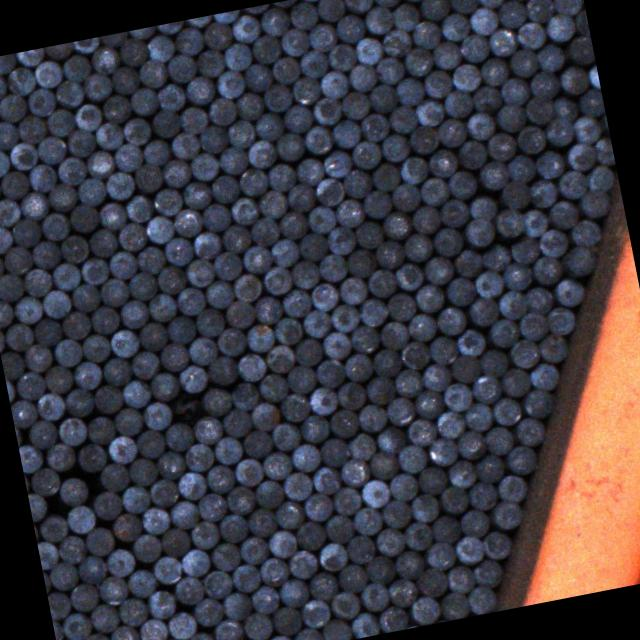tool: (502, 442, 538, 478), (562, 243, 598, 278), (520, 386, 556, 420), (536, 329, 570, 364), (512, 414, 546, 448), (498, 74, 532, 108), (448, 351, 482, 385), (465, 479, 499, 513), (385, 576, 419, 610), (54, 154, 88, 188), (338, 88, 372, 122), (522, 92, 556, 126), (90, 382, 124, 416), (91, 488, 124, 522), (471, 82, 504, 116), (530, 253, 564, 286), (498, 365, 532, 398), (469, 372, 502, 406), (412, 388, 445, 422), (472, 452, 506, 485), (413, 566, 447, 599), (34, 133, 68, 166), (170, 205, 203, 239), (296, 230, 330, 263), (380, 208, 413, 242), (328, 301, 362, 334), (105, 432, 138, 466), (423, 540, 458, 572), (436, 590, 471, 622), (479, 528, 512, 561), (409, 18, 442, 51), (449, 61, 482, 94), (486, 130, 519, 163), (487, 316, 520, 349), (217, 144, 250, 177), (245, 138, 278, 171), (1, 243, 34, 276), (219, 222, 252, 255), (417, 175, 450, 208), (409, 203, 442, 236), (88, 303, 121, 336), (157, 340, 190, 373), (200, 385, 233, 418), (162, 420, 195, 453), (578, 186, 612, 218), (506, 47, 540, 79), (444, 274, 476, 308), (434, 304, 468, 336), (426, 334, 458, 368), (454, 429, 488, 461), (372, 526, 406, 558), (329, 588, 361, 622), (80, 70, 114, 102), (306, 20, 338, 54), (334, 12, 366, 46), (252, 110, 284, 144), (46, 180, 78, 214), (160, 156, 192, 190), (434, 117, 468, 149), (454, 139, 488, 171), (564, 140, 596, 174), (344, 247, 378, 279), (14, 368, 46, 402), (100, 354, 132, 388), (385, 290, 417, 324), (62, 386, 96, 418), (284, 363, 318, 395), (280, 470, 314, 502), (317, 436, 351, 468), (272, 498, 306, 530), (508, 336, 540, 370), (554, 275, 586, 308), (544, 304, 576, 337), (527, 361, 560, 393), (544, 11, 576, 44), (438, 11, 471, 43), (486, 25, 518, 58), (514, 18, 546, 51), (528, 70, 561, 102), (498, 178, 530, 211), (436, 197, 469, 229), (432, 225, 464, 258), (419, 360, 452, 392), (441, 381, 474, 413), (415, 464, 448, 496), (368, 449, 400, 482), (387, 470, 420, 502), (381, 498, 414, 530), (316, 541, 349, 573), (408, 594, 441, 626), (299, 597, 331, 630), (172, 26, 205, 58), (108, 64, 140, 97), (136, 57, 168, 90), (165, 52, 198, 84), (250, 33, 282, 66), (183, 74, 215, 107), (214, 68, 247, 100), (197, 123, 230, 155), (281, 102, 314, 134), (310, 95, 343, 127), (394, 75, 426, 108), (67, 202, 99, 235), (320, 148, 353, 180), (378, 132, 411, 164), (30, 238, 62, 271), (200, 201, 232, 234), (341, 167, 373, 200), (49, 260, 82, 292), (135, 244, 167, 277), (162, 235, 194, 268), (248, 215, 280, 248), (277, 208, 309, 241), (305, 203, 337, 236), (332, 197, 364, 230), (211, 249, 243, 282), (118, 297, 150, 330), (59, 309, 92, 341), (244, 322, 276, 355), (206, 354, 239, 386), (319, 329, 352, 361), (348, 324, 381, 356), (378, 319, 410, 352), (314, 357, 346, 390), (370, 346, 402, 379), (248, 400, 280, 433), (278, 391, 311, 423), (335, 379, 367, 412), (182, 440, 215, 472), (270, 419, 302, 452), (298, 412, 330, 445), (328, 406, 360, 439), (28, 465, 61, 497), (126, 456, 159, 488), (54, 534, 87, 566), (195, 490, 228, 522), (302, 491, 334, 524), (323, 512, 355, 545), (257, 556, 290, 588), (517, 309, 549, 342), (402, 230, 433, 264), (496, 472, 528, 504), (466, 584, 498, 616), (429, 38, 461, 70), (494, 101, 526, 133), (515, 124, 547, 156), (556, 168, 588, 200), (468, 5, 500, 37), (458, 32, 490, 64), (478, 56, 510, 88), (558, 64, 590, 96), (464, 110, 496, 142), (504, 152, 536, 184), (476, 160, 508, 192), (546, 198, 578, 230), (446, 168, 478, 200), (536, 228, 568, 260), (462, 216, 494, 248), (452, 247, 484, 279), (480, 242, 512, 274), (472, 268, 504, 300), (500, 260, 532, 292), (467, 296, 499, 328), (496, 289, 528, 321), (399, 340, 431, 372), (391, 367, 423, 399), (490, 396, 522, 428), (426, 436, 458, 468), (483, 424, 515, 456), (396, 443, 428, 475), (444, 458, 476, 490), (344, 430, 376, 462), (338, 456, 370, 488), (359, 477, 391, 509), (408, 492, 440, 524), (351, 504, 383, 536), (344, 533, 376, 565), (402, 520, 434, 552), (458, 506, 490, 538), (392, 549, 424, 581), (452, 534, 484, 566), (270, 604, 302, 636), (201, 20, 233, 52), (229, 12, 261, 44), (258, 5, 290, 37), (53, 78, 85, 110), (278, 26, 310, 58), (16, 114, 48, 146), (100, 93, 132, 125), (297, 47, 329, 79), (380, 27, 412, 59), (92, 120, 124, 152), (177, 104, 209, 136), (206, 96, 238, 128), (261, 82, 293, 114), (318, 68, 350, 100), (346, 62, 378, 94), (402, 46, 434, 78), (112, 142, 144, 174), (169, 130, 201, 162), (18, 190, 50, 222), (75, 176, 107, 208), (103, 170, 135, 202), (188, 151, 220, 183), (330, 118, 362, 150), (387, 104, 419, 136), (10, 216, 42, 248), (151, 186, 183, 218), (208, 173, 240, 205), (236, 166, 268, 198), (350, 138, 382, 170), (57, 233, 89, 265), (116, 220, 148, 252), (314, 176, 346, 208), (426, 147, 458, 179), (570, 114, 602, 146), (106, 249, 138, 281), (190, 230, 222, 262), (360, 188, 392, 220), (11, 294, 43, 326), (40, 288, 72, 320), (69, 281, 101, 313), (98, 276, 130, 308), (126, 270, 158, 302), (156, 264, 188, 296), (183, 256, 215, 288), (240, 243, 272, 275), (268, 236, 300, 268), (373, 238, 405, 270), (261, 264, 293, 296), (230, 272, 262, 304), (146, 291, 178, 323), (52, 336, 84, 368), (80, 332, 112, 364), (71, 359, 103, 391), (108, 328, 140, 360), (136, 320, 168, 352), (194, 306, 226, 338), (224, 298, 256, 330), (186, 334, 218, 366), (215, 325, 247, 357), (280, 288, 312, 320), (308, 281, 340, 313), (366, 267, 398, 299), (357, 296, 389, 328), (301, 308, 333, 340), (120, 378, 152, 410), (148, 370, 180, 402), (228, 380, 260, 412), (264, 342, 296, 374), (141, 400, 173, 432), (112, 406, 144, 438), (85, 414, 117, 446), (56, 416, 88, 448), (134, 428, 166, 460), (221, 407, 253, 439), (307, 384, 339, 416), (364, 375, 396, 407), (212, 434, 244, 466), (241, 428, 273, 460), (26, 418, 58, 450), (44, 441, 76, 473), (83, 525, 115, 557), (111, 512, 143, 544), (204, 463, 236, 495), (253, 478, 285, 510), (310, 464, 342, 496), (330, 484, 362, 516), (246, 506, 278, 538), (179, 546, 211, 578), (238, 534, 270, 566), (266, 528, 298, 560), (104, 546, 136, 578), (286, 548, 318, 580), (97, 575, 129, 607), (88, 602, 120, 634), (202, 568, 234, 600), (192, 595, 224, 627), (248, 584, 280, 616), (220, 590, 252, 622), (5, 65, 36, 98), (144, 33, 177, 64), (406, 124, 439, 155), (257, 188, 288, 221), (203, 278, 234, 311), (175, 285, 206, 318), (235, 352, 268, 383), (165, 609, 198, 640), (57, 477, 89, 508), (65, 503, 96, 535), (526, 177, 558, 208), (422, 254, 453, 286), (414, 282, 445, 314), (523, 285, 554, 317), (462, 401, 494, 432), (406, 416, 437, 448), (434, 409, 466, 440), (356, 403, 388, 434), (438, 484, 469, 516), (337, 562, 368, 594), (364, 554, 395, 586), (89, 44, 120, 76), (118, 36, 149, 68), (363, 4, 394, 36), (242, 61, 273, 93), (353, 35, 384, 67), (7, 140, 38, 172), (64, 127, 96, 158), (120, 115, 152, 146), (150, 107, 181, 139), (289, 75, 321, 106), (374, 54, 405, 86), (27, 162, 58, 194), (85, 148, 116, 180), (225, 118, 256, 150), (367, 82, 398, 114), (132, 162, 163, 194), (274, 131, 305, 163), (302, 123, 333, 155), (358, 111, 389, 143), (40, 211, 71, 243), (181, 180, 212, 212), (294, 156, 325, 188), (78, 255, 110, 286), (325, 224, 356, 256), (3, 321, 34, 353), (22, 342, 53, 374), (165, 314, 197, 345), (252, 294, 283, 326), (272, 314, 303, 346), (337, 274, 368, 306), (35, 390, 66, 422), (192, 414, 224, 445), (76, 442, 108, 473), (98, 462, 129, 494), (155, 449, 186, 481), (176, 469, 207, 501), (139, 505, 171, 536), (261, 451, 293, 482), (290, 442, 321, 474), (218, 512, 249, 544), (151, 554, 182, 586), (230, 562, 261, 594), (116, 596, 148, 627), (145, 588, 176, 620), (173, 574, 204, 606), (278, 578, 310, 609), (568, 218, 601, 248), (471, 558, 504, 588), (26, 86, 56, 119), (144, 212, 174, 245), (228, 194, 258, 227), (290, 258, 320, 291), (130, 348, 160, 381), (443, 88, 474, 119), (493, 207, 524, 238), (61, 53, 92, 84), (45, 107, 76, 138), (128, 86, 159, 117), (155, 82, 186, 113), (233, 90, 264, 121), (398, 155, 429, 186), (394, 261, 425, 292), (342, 352, 373, 383), (148, 477, 179, 508), (168, 499, 199, 530), (509, 234, 541, 264), (384, 396, 416, 426), (375, 426, 407, 456), (430, 512, 460, 544), (360, 580, 390, 612), (195, 48, 227, 78), (270, 54, 300, 86), (0, 169, 30, 201), (124, 192, 154, 224), (266, 162, 296, 194), (286, 182, 316, 214), (544, 116, 574, 148), (576, 87, 606, 119), (22, 266, 52, 298), (390, 181, 420, 213), (316, 252, 348, 282), (32, 316, 62, 348), (178, 363, 208, 395), (258, 372, 288, 404), (160, 526, 190, 558), (131, 532, 161, 564), (295, 520, 325, 552), (61, 610, 93, 640), (308, 570, 338, 602), (585, 164, 616, 194), (534, 149, 564, 180), (566, 35, 596, 66), (406, 312, 436, 343), (378, 603, 408, 634), (32, 59, 62, 90), (222, 41, 252, 72), (72, 101, 102, 132), (326, 42, 357, 72), (97, 201, 127, 232), (88, 227, 118, 258), (42, 364, 73, 394), (226, 485, 256, 516), (189, 519, 219, 550), (210, 541, 240, 572), (125, 568, 156, 598), (241, 610, 272, 640), (495, 0, 527, 29), (492, 500, 522, 530), (536, 42, 566, 72), (422, 68, 452, 98), (456, 327, 486, 357), (478, 348, 508, 378), (445, 564, 475, 594), (350, 610, 380, 640), (288, 1, 318, 31), (140, 138, 170, 168), (414, 98, 444, 128), (370, 163, 400, 193), (353, 220, 383, 250), (292, 338, 322, 368), (38, 513, 68, 543), (120, 484, 150, 514), (234, 458, 264, 488), (76, 554, 106, 584), (68, 582, 98, 612), (391, 2, 420, 33), (520, 208, 549, 238), (0, 92, 27, 124), (10, 398, 38, 428), (48, 560, 76, 590), (468, 194, 497, 222), (18, 442, 44, 473), (319, 616, 352, 640), (552, 95, 578, 125), (522, 0, 554, 24), (0, 271, 24, 303), (136, 616, 168, 640), (211, 617, 244, 640), (1, 350, 26, 380), (590, 138, 616, 166), (47, 590, 71, 620), (314, 0, 345, 23), (0, 196, 21, 228), (419, 0, 449, 22), (37, 538, 58, 568), (0, 119, 19, 151), (44, 42, 74, 62), (28, 492, 48, 522), (107, 623, 140, 640), (16, 48, 45, 67), (572, 8, 590, 38), (98, 32, 128, 50), (72, 37, 100, 55), (292, 624, 323, 640), (551, 0, 581, 16), (342, 0, 374, 15), (0, 222, 14, 256), (448, 0, 479, 15), (212, 10, 240, 25), (0, 298, 14, 328), (156, 21, 183, 36), (0, 53, 16, 75), (0, 146, 10, 178), (185, 630, 216, 640), (371, 0, 402, 9), (81, 631, 112, 640), (475, 0, 505, 9), (263, 633, 294, 640), (0, 71, 7, 102), (0, 251, 5, 281)
tool_b: (165, 388, 208, 426)
